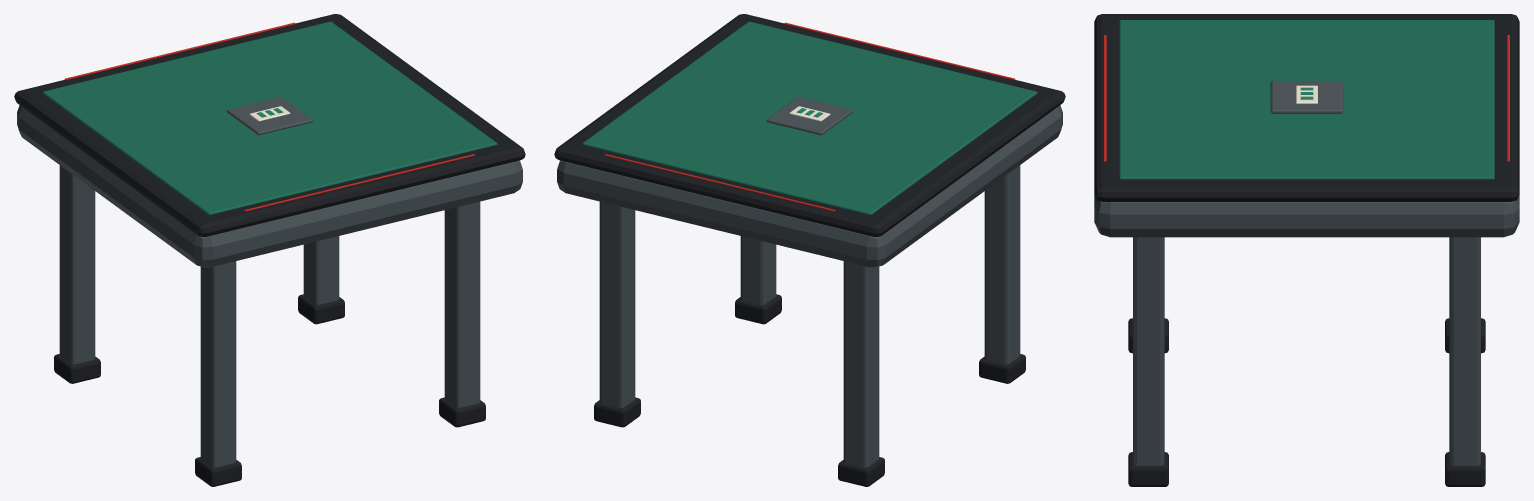
File: MahjongTable.fbx
3 renders of one model, left to right at view 1: azimuth 30°, elevation 25°; view 2: azimuth 150°, elevation 25°; view 3: azimuth 270°, elevation 25°, orthographic. The views are drawn at different scales.
Parts seen in each view (by area): view 1: Felt, Rim, Base, Leg_-1_-1, Leg_1_-1, Leg_-1_1, Leg_1_1, CenterPanel, Foot_-1_-1, Foot_1_-1, Foot_-1_1, Foot_1_1 (+2 smaller); view 2: Felt, Rim, Base, Leg_-1_1, Leg_1_1, Leg_-1_-1, Leg_1_-1, CenterPanel, Foot_-1_1, Foot_1_1, Foot_-1_-1, Foot_1_-1 (+2 smaller); view 3: Felt, Rim, Base, Leg_1_-1, Leg_1_1, CenterPanel, Foot_1_-1, Foot_1_1.
Part boxes in pixels (left/top/right/bottom): Felt: left=42, top=21, right=497, bottom=215; Rim: left=14, top=14, right=525, bottom=236; Base: left=17, top=105, right=522, bottom=267; Leg_-1_-1: left=200, top=261, right=236, bottom=467; Leg_1_-1: left=444, top=201, right=480, bottom=407; Leg_-1_1: left=59, top=165, right=95, bottom=364; Leg_1_1: left=303, top=236, right=339, bottom=304; CenterPanel: left=226, top=97, right=312, bottom=135; Foot_-1_-1: left=195, top=457, right=241, bottom=486; Foot_1_-1: left=439, top=397, right=485, bottom=427; Foot_-1_1: left=54, top=354, right=100, bottom=383; Foot_1_1: left=298, top=294, right=344, bottom=324; Felt: left=582, top=21, right=1037, bottom=215; Rim: left=554, top=14, right=1065, bottom=236; Base: left=557, top=105, right=1062, bottom=267; Leg_-1_1: left=843, top=261, right=879, bottom=467; Leg_1_1: left=599, top=201, right=635, bottom=407; Leg_-1_-1: left=984, top=165, right=1020, bottom=364; Leg_1_-1: left=740, top=236, right=776, bottom=304; CenterPanel: left=767, top=97, right=853, bottom=135; Foot_-1_1: left=838, top=457, right=884, bottom=486; Foot_1_1: left=594, top=397, right=640, bottom=427; Foot_-1_-1: left=979, top=354, right=1025, bottom=383; Foot_1_-1: left=735, top=294, right=781, bottom=324; Felt: left=1119, top=20, right=1494, bottom=179; Rim: left=1094, top=14, right=1519, bottom=201; Base: left=1094, top=195, right=1519, bottom=237; Leg_1_-1: left=1133, top=237, right=1164, bottom=465; Leg_1_1: left=1449, top=237, right=1480, bottom=465; CenterPanel: left=1270, top=81, right=1343, bottom=113; Foot_1_-1: left=1128, top=452, right=1168, bottom=486; Foot_1_1: left=1445, top=452, right=1485, bottom=486.
Bounding box in the file's own units: 0.94 × 0.7795 × 0.94.
